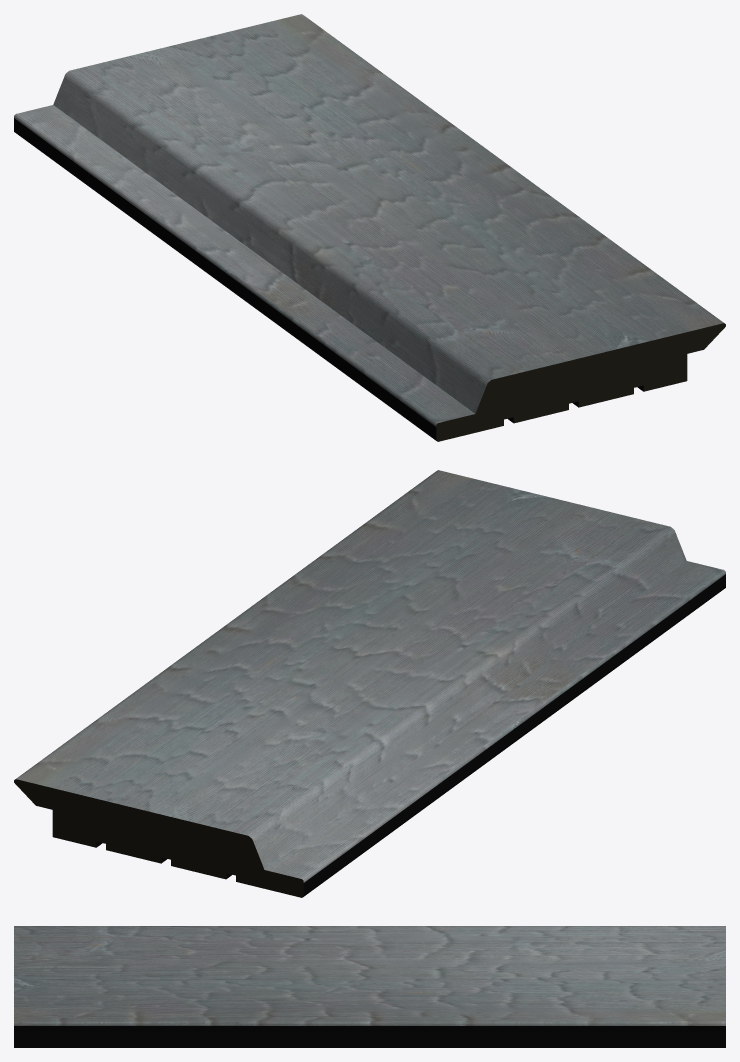
Rendered from thermo-facade-half-tongue-45-graphite.glb.
3 renders of one model, top to bottom at view 1: azimuth 30°, elevation 25°; view 2: azimuth 150°, elevation 25°; view 3: azimuth 270°, elevation 25°, orthographic. The views are drawn at different scales.
Visible parts, largest first — view 1: Pusė_Špunto_45; view 2: Pusė_Špunto_45; view 3: Pusė_Špunto_45.
Boxes of the visible parts, x1=… form: Pusė_Špunto_45: x1=14, y1=14, x2=725, y2=441; Pusė_Špunto_45: x1=14, y1=470, x2=725, y2=897; Pusė_Špunto_45: x1=14, y1=926, x2=725, y2=1047.
Size of the model in its own units: 0.0723 by 0.0117 by 0.1826.
Materials: 3 (1 with a texture image).
